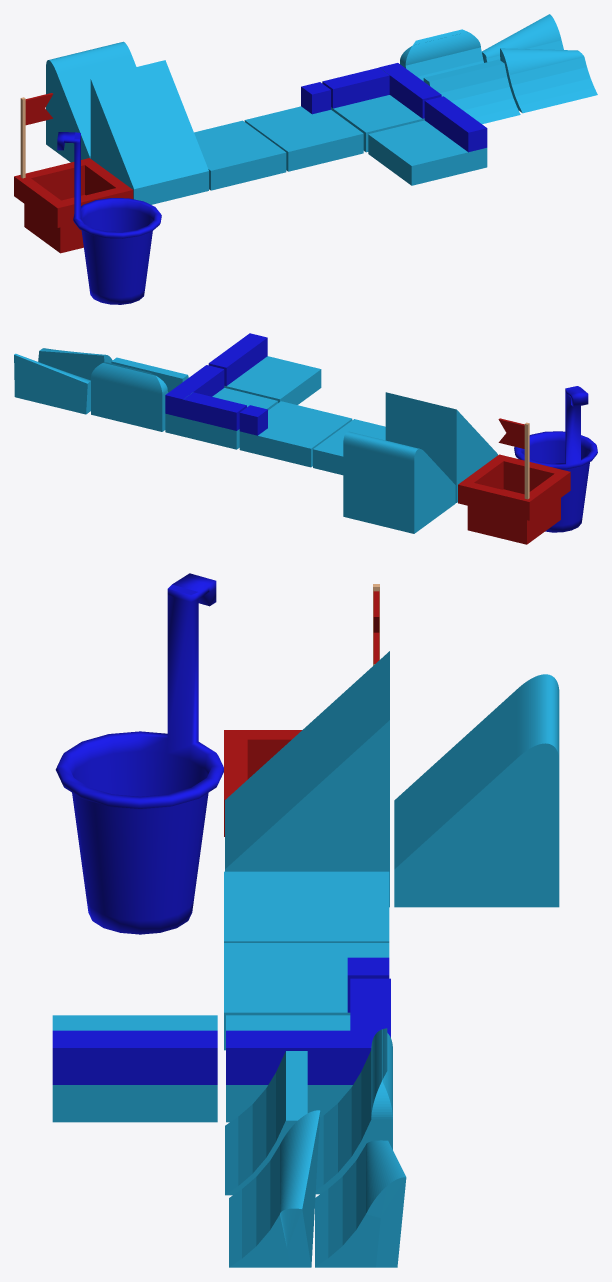
File: BLOCK MOUNTAIN.glb
3 views of the same model, one above another, from view 1: azimuth 30°, elevation 25°; view 2: azimuth 150°, elevation 25°; view 3: azimuth 270°, elevation 25° (orthographic). The views are drawn at different scales.
Parts seen in each view (by area): view 1: tanjakan mencos, Circle, target, flat benteng.001, flat corner nonjol, flat benteng, tanjakan tumpul, tanjakan miring kanan, flat floor, tanjakan melengkung, tanjakan melengkung.001, tanjakan miring kiri; view 2: tanjakan tumpul, target, tanjakan mencos, flat benteng, flat corner nonjol, Circle, flat benteng.001, tanjakan melengkung.001, tanjakan miring kiri, flat floor, tanjakan miring kanan, tanjakan melengkung; view 3: Circle, tanjakan tumpul, tanjakan mencos, flat benteng.001, flat benteng, flat floor, flat corner nonjol, tanjakan miring kanan, tanjakan miring kiri, tanjakan melengkung.001, tanjakan melengkung, target.
Boxes of the visible parts, x1,y1,x2,y2 form: tanjakan mencos: [90, 60, 208, 204]; Circle: [57, 132, 161, 304]; target: [14, 93, 133, 253]; flat benteng.001: [368, 96, 487, 185]; flat corner nonjol: [244, 82, 363, 171]; flat benteng: [322, 63, 441, 152]; tanjakan tumpul: [46, 41, 136, 162]; tanjakan miring kanan: [500, 48, 597, 113]; flat floor: [194, 120, 286, 190]; tanjakan melengkung: [423, 59, 520, 124]; tanjakan melengkung.001: [400, 29, 483, 81]; tanjakan miring kiri: [482, 14, 563, 62]; tanjakan tumpul: [343, 431, 455, 533]; target: [458, 418, 570, 544]; tanjakan mencos: [385, 392, 497, 502]; flat benteng: [165, 365, 277, 449]; flat corner nonjol: [239, 401, 352, 467]; Circle: [514, 386, 597, 532]; flat benteng.001: [208, 333, 321, 404]; tanjakan melengkung.001: [91, 362, 168, 431]; tanjakan miring kiri: [14, 353, 90, 414]; flat floor: [313, 419, 385, 475]; tanjakan miring kanan: [38, 348, 112, 380]; tanjakan melengkung: [111, 357, 188, 392]; Circle: [55, 573, 223, 934]; tanjakan tumpul: [394, 674, 559, 907]; tanjakan mencos: [225, 651, 389, 907]; flat benteng.001: [52, 1015, 217, 1122]; flat benteng: [226, 978, 390, 1122]; flat floor: [224, 871, 389, 942]; flat corner nonjol: [224, 943, 389, 1050]; tanjakan miring kanan: [229, 1110, 320, 1267]; tanjakan miring kiri: [315, 1140, 406, 1267]; tanjakan melengkung.001: [315, 1028, 392, 1194]; tanjakan melengkung: [225, 1051, 307, 1195]; target: [224, 584, 379, 836].
Size of what is drawn, in the model's own units: 29.16 by 7.96 by 12.27.
15 materials, 1 textured.
